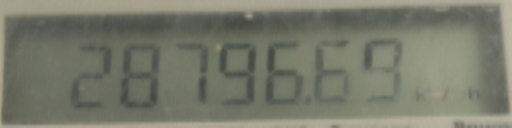2: (64, 38, 113, 112)
6: (261, 30, 305, 112), (314, 26, 354, 114)
7: (164, 33, 211, 115)
8: (113, 35, 163, 114)
9: (355, 24, 409, 109), (213, 32, 261, 114)
d: (302, 92, 313, 107)
